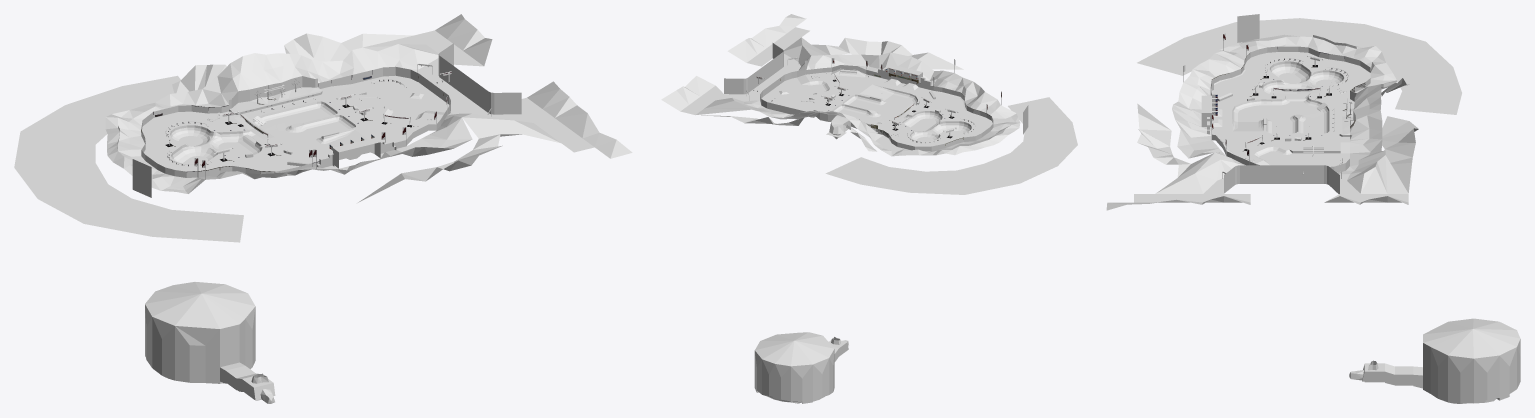
File: t2_mar.glb
3 renders of one model, left to right at view 1: azimuth 30°, elevation 25°; view 2: azimuth 150°, elevation 25°; view 3: azimuth 270°, elevation 25°, orthographic. The views are drawn at different scales.
Visible parts, largest first — view 1: SKMAR_Col_Floor, SKMAR_Col_Ride, SKMAR_Col_Pipe, SKMAR_Col_Wall; view 2: SKMAR_Col_Floor, SKMAR_Col_Ride, SKMAR_Col_Pipe, SKMAR_Col_Wall; view 3: SKMAR_Col_Floor, SKMAR_Col_Ride, SKMAR_Col_Pipe, SKMAR_Col_Wall.
Boxes of the visible parts, x1=… form: SKMAR_Col_Floor: x1=14, y1=14, x2=632, y2=397; SKMAR_Col_Ride: x1=141, y1=66, x2=450, y2=403; SKMAR_Col_Pipe: x1=152, y1=94, x2=411, y2=169; SKMAR_Col_Wall: x1=117, y1=43, x2=521, y2=400; SKMAR_Col_Floor: x1=661, y1=14, x2=1077, y2=366; SKMAR_Col_Ride: x1=754, y1=58, x2=1001, y2=403; SKMAR_Col_Pipe: x1=764, y1=69, x2=981, y2=403; SKMAR_Col_Wall: x1=724, y1=43, x2=1028, y2=403; SKMAR_Col_Floor: x1=1106, y1=18, x2=1520, y2=375; SKMAR_Col_Ride: x1=1183, y1=33, x2=1520, y2=403; SKMAR_Col_Pipe: x1=1217, y1=52, x2=1349, y2=154; SKMAR_Col_Wall: x1=1201, y1=14, x2=1368, y2=380.
Size of the model in its own units: 249 by 171 by 213.
Materials: 20 (19 with a texture image).
